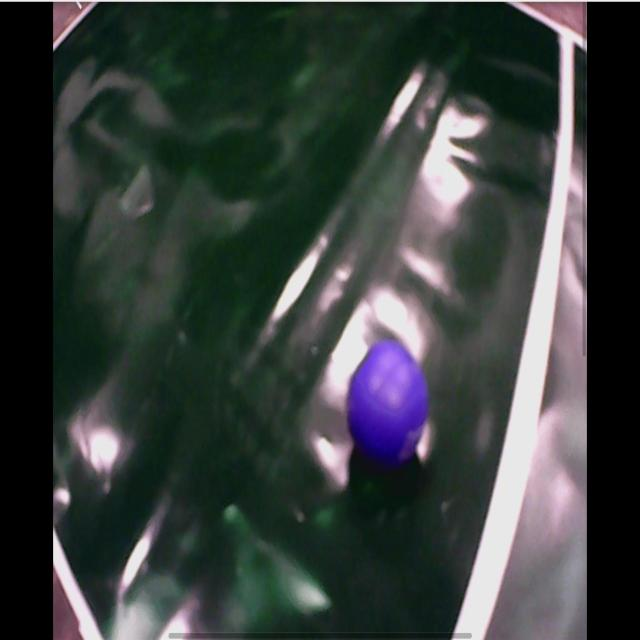ball: (349, 340, 427, 461)
